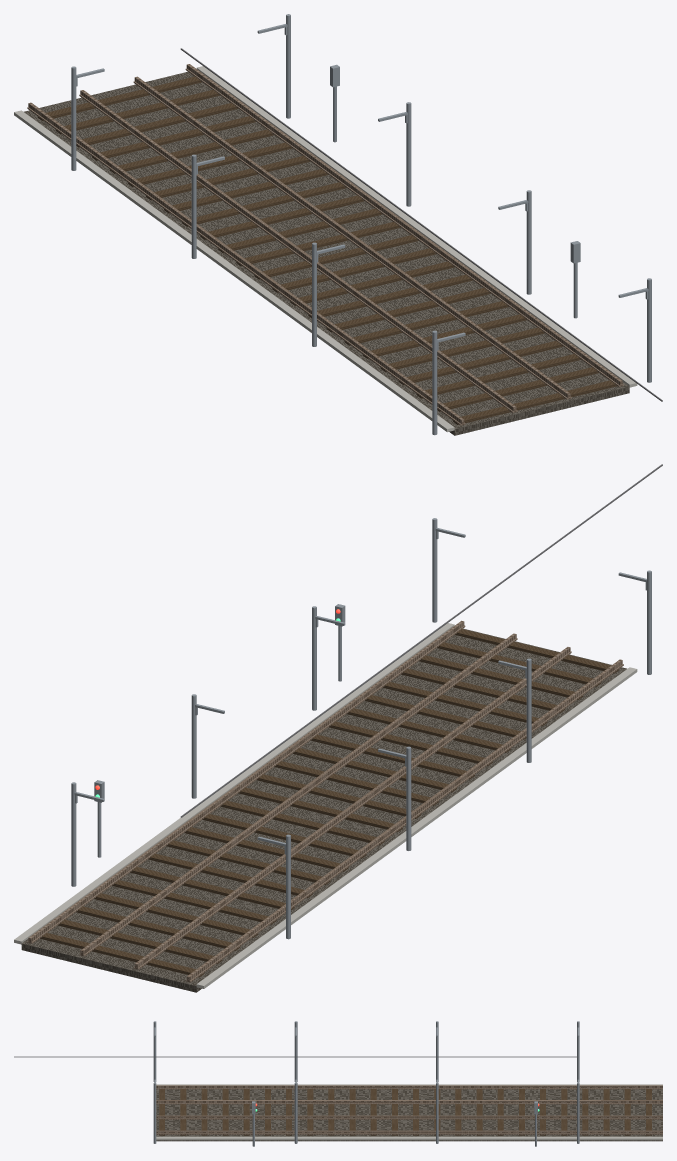
File: SM_Track_Kit.glb
3 views of the same model, one above another, from view 1: azimuth 30°, elevation 25°; view 2: azimuth 150°, elevation 25°; view 3: azimuth 270°, elevation 25° (orthographic). The views are drawn at different scales.
Parts seen in each view (by area): view 1: BallastBed, LeftDrain, RightDrain, Rail+1.30, Rail+3.80, Rail-1.30, Rail-3.80, RailFoot-3.80, RailFoot+3.80, RailFoot+1.30, RailFoot-1.30, Sleeper23 (+27 smaller); view 2: BallastBed, LeftDrain, RightDrain, Rail+3.80, Rail+1.30, Rail-3.80, Rail-1.30, RailFoot-3.80, RailFoot+3.80, RailFoot+1.30, RailFoot-1.30, Sleeper03 (+23 smaller); view 3: BallastBed, RightDrain, Rail-3.80, Rail-1.30, Rail+1.30, Rail+3.80, LeftDrain, RailFoot+3.80, RailFoot+1.30, RailFoot-3.80, RailFoot-1.30, ContactWire0 (+30 smaller).
Part boxes in pixels (bbox=[...]): BallastBed: bbox=[24, 71, 629, 435]; LeftDrain: bbox=[14, 110, 454, 432]; RightDrain: bbox=[196, 66, 637, 387]; Rail+1.30: bbox=[134, 76, 570, 398]; Rail+3.80: bbox=[186, 64, 622, 385]; Rail-1.30: bbox=[80, 90, 516, 411]; Rail-3.80: bbox=[28, 102, 464, 424]; RailFoot-3.80: bbox=[27, 107, 465, 425]; RailFoot+3.80: bbox=[185, 68, 623, 386]; RailFoot+1.30: bbox=[133, 81, 571, 399]; RailFoot-1.30: bbox=[79, 94, 517, 412]; Sleeper23: bbox=[453, 380, 617, 424]; BallastBed: bbox=[21, 628, 626, 992]; LeftDrain: bbox=[196, 667, 637, 988]; RightDrain: bbox=[14, 623, 454, 944]; Rail+3.80: bbox=[28, 620, 464, 942]; Rail+1.30: bbox=[80, 633, 516, 954]; Rail-3.80: bbox=[186, 659, 622, 981]; Rail-1.30: bbox=[134, 647, 570, 968]; RailFoot-3.80: bbox=[185, 664, 623, 982]; RailFoot+3.80: bbox=[27, 625, 465, 943]; RailFoot+1.30: bbox=[79, 638, 517, 956]; RailFoot-1.30: bbox=[133, 651, 571, 969]; Sleeper03: bbox=[94, 893, 258, 937]; BallastBed: bbox=[156, 1089, 662, 1141]; RightDrain: bbox=[156, 1136, 662, 1140]; Rail-3.80: bbox=[156, 1085, 662, 1088]; Rail-1.30: bbox=[156, 1100, 662, 1103]; Rail+1.30: bbox=[156, 1115, 662, 1118]; Rail+3.80: bbox=[156, 1130, 662, 1133]; LeftDrain: bbox=[156, 1084, 662, 1085]; RailFoot+3.80: bbox=[156, 1133, 662, 1134]; RailFoot+1.30: bbox=[156, 1118, 662, 1119]; RailFoot-3.80: bbox=[156, 1088, 662, 1089]; RailFoot-1.30: bbox=[156, 1103, 662, 1104]; ContactWire0: bbox=[437, 1056, 577, 1057].
Bounding box in the file's own units: 11.07 × 5 × 46.
8 materials, 3 textured.
